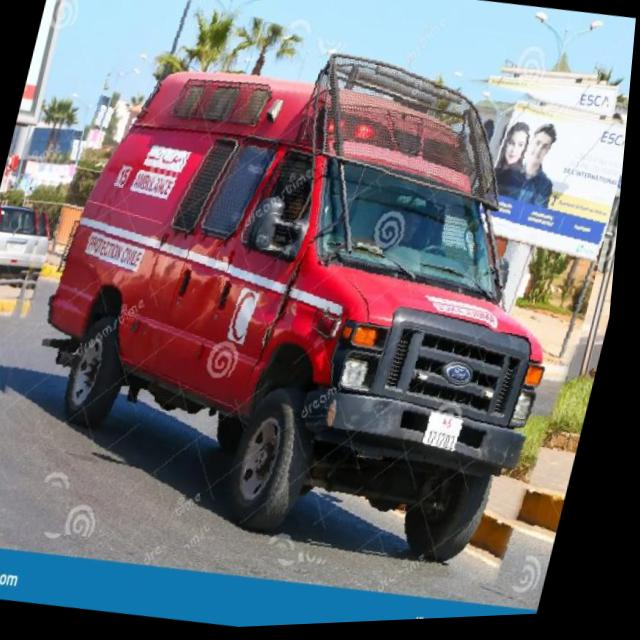ambulance: (0, 0, 640, 612)
